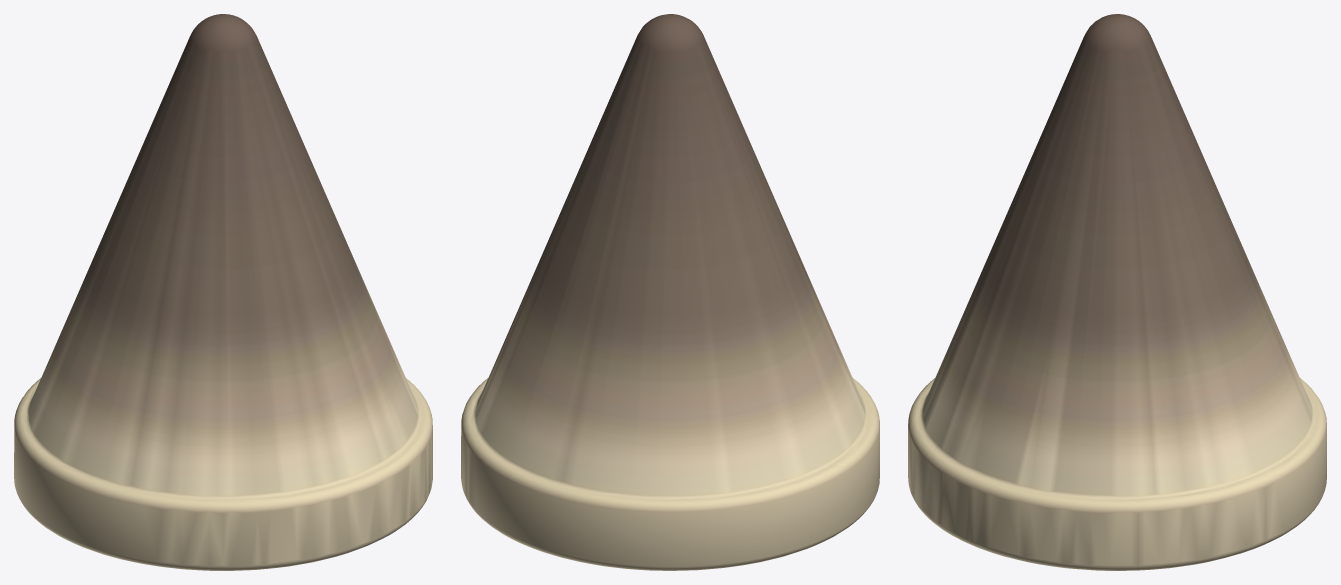
Rendered from monolith_pesec_cerny.glb.
3 views of the same model, side by side, from view 1: azimuth 30°, elevation 25°; view 2: azimuth 150°, elevation 25°; view 3: azimuth 270°, elevation 25° (orthographic).
Visible parts, largest first — view 1: MONOLITH Pěšec – Kouř (černý); view 2: MONOLITH Pěšec – Kouř (černý); view 3: MONOLITH Pěšec – Kouř (černý).
Part boxes in pixels (<box>): MONOLITH Pěšec – Kouř (černý): <box>14,14,432,570</box>; MONOLITH Pěšec – Kouř (černý): <box>461,14,879,570</box>; MONOLITH Pěšec – Kouř (černý): <box>908,14,1326,570</box>.
Bounding box in the file's own units: 0.03 × 0.037 × 0.03.
Materials: 1 (1 with a texture image).
